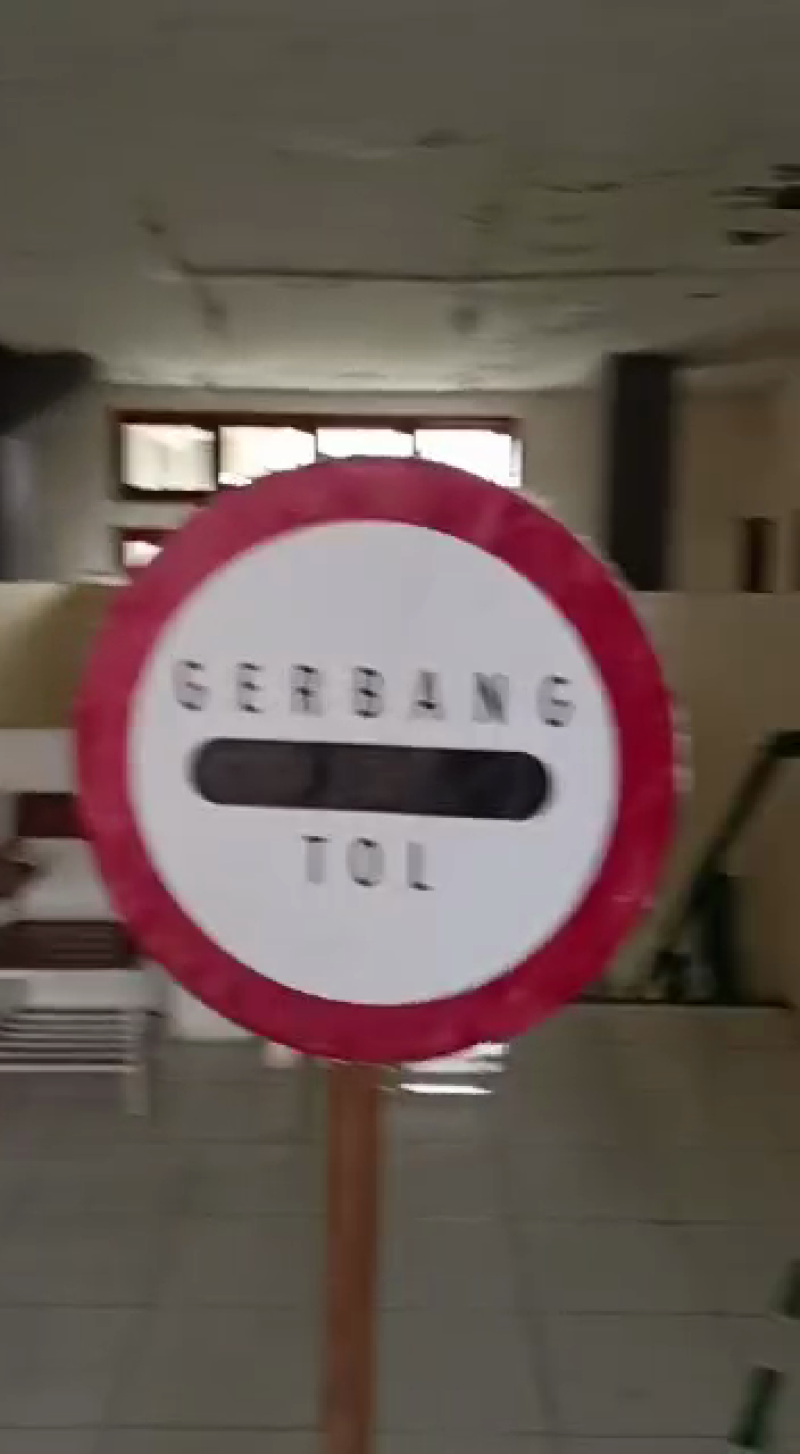gerbang tol: (50, 440, 696, 1085)
